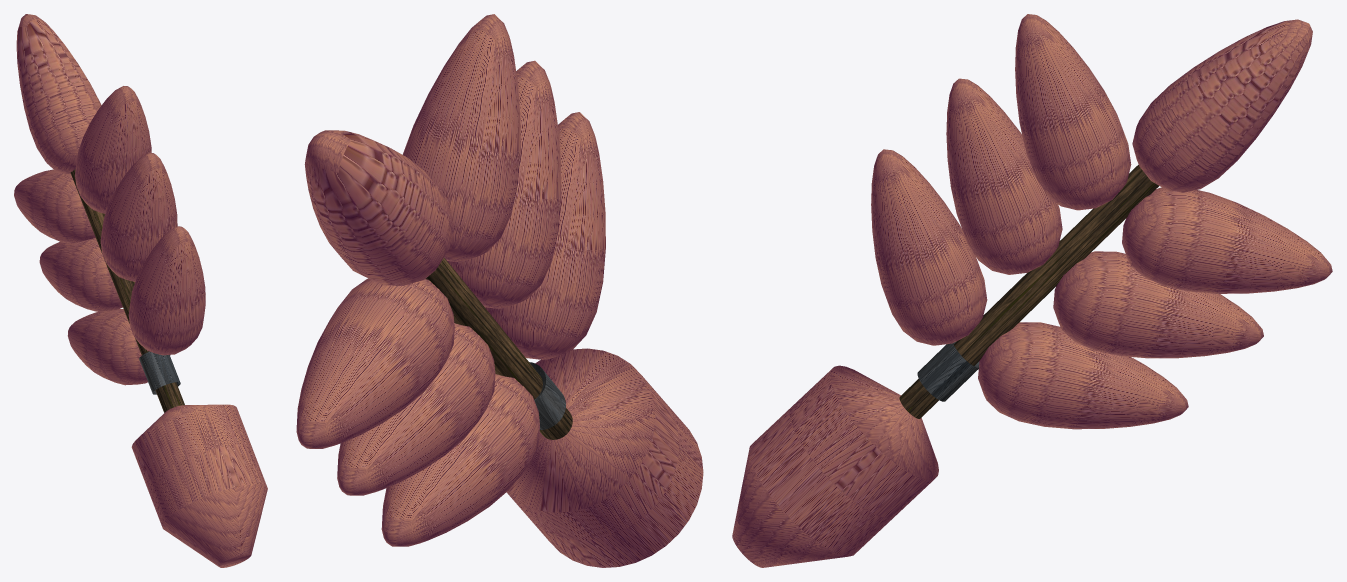
File: Ryde.glb
3 renders of one model, left to right at view 1: azimuth 30°, elevation 25°; view 2: azimuth 150°, elevation 25°; view 3: azimuth 270°, elevation 25°, orthographic. The views are drawn at different scales.
Parts seen in each view (by area): view 1: Stick.001, Straw, Straw.001, Straw.002, StrawTop, Stick, Band; view 2: Straw.002, Stick.001, Straw, Straw.001, StrawTop, Stick, Band; view 3: Straw.002, Straw, Straw.001, Stick.001, StrawTop, Stick, Band.
Boxes of the visible parts, x1,y1,x2,y2 form: Stick.001: (131,404,267,567); Straw: (67,226,205,385); Straw.001: (39,152,177,311); Straw.002: (14,86,151,243); StrawTop: (16,14,101,174); Stick: (70,169,184,412); Band: (139,351,180,394); Straw.002: (296,14,520,448); Stick.001: (506,348,703,567); Straw: (381,112,605,546); Straw.001: (337,60,561,495); StrawTop: (304,130,453,285); Stick: (425,257,572,439); Band: (529,362,565,429); Straw.002: (1015,14,1332,293); Straw: (871,149,1188,429); Straw.001: (946,78,1263,358); Stick.001: (732,365,938,567); StrawTop: (1132,19,1312,192); Stick: (899,164,1158,418); Band: (917,341,979,401).
Size of the model in its own units: 3.66 by 14.62 by 14.52.
Materials: 3 (3 with a texture image).
